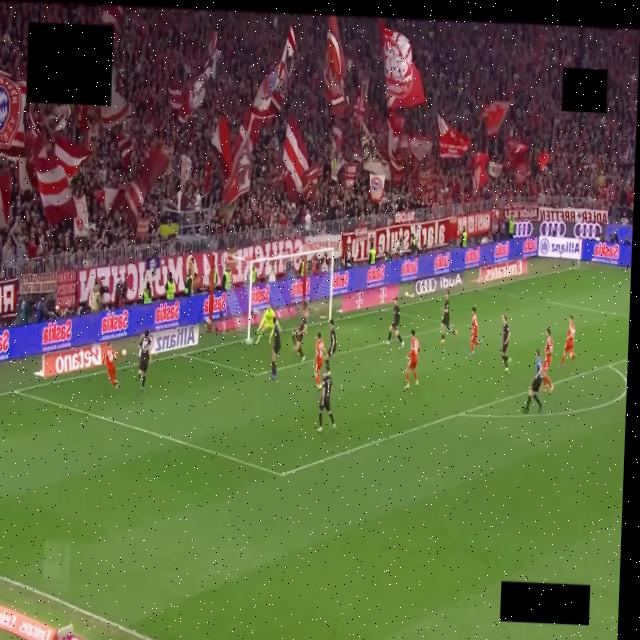ball: (246, 338, 254, 343)
player: (318, 362, 335, 431), (137, 329, 153, 392), (404, 330, 419, 389), (292, 302, 307, 361), (440, 290, 456, 343), (559, 316, 575, 369), (386, 298, 403, 346), (256, 305, 274, 344), (542, 329, 553, 392), (103, 342, 118, 388), (270, 317, 280, 380), (314, 333, 324, 390), (501, 315, 510, 372), (470, 307, 480, 356), (326, 319, 336, 358)
referee: (523, 349, 542, 413)
